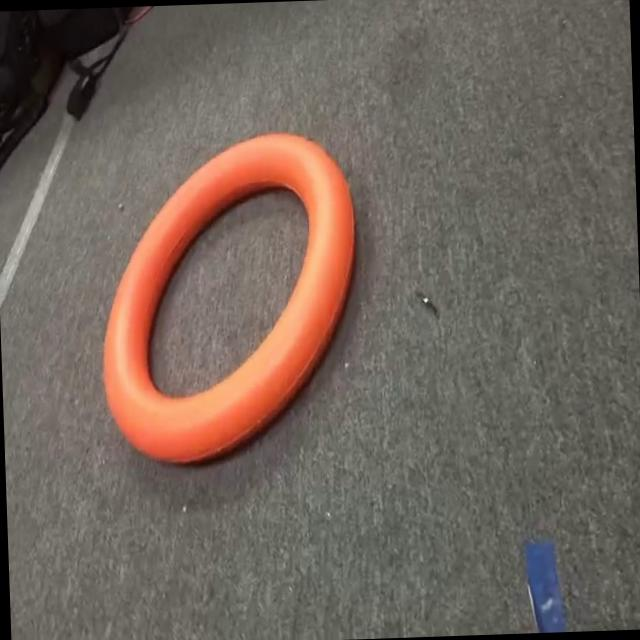note: (81, 121, 387, 490)
